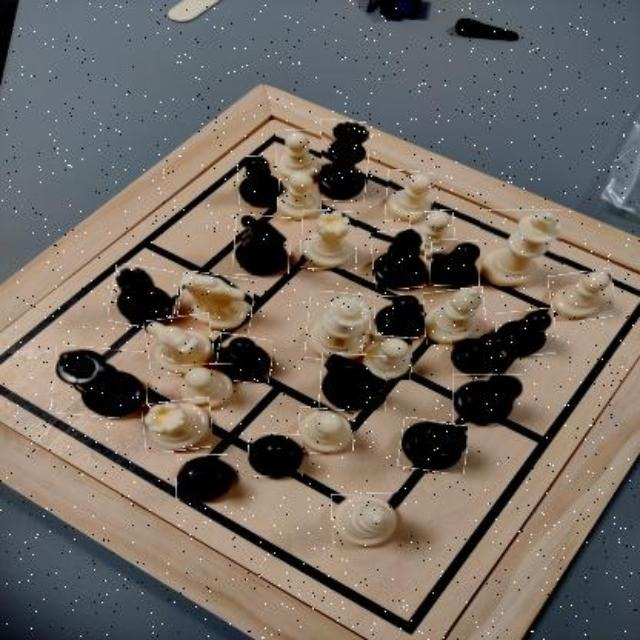black-bishop: (452, 374, 524, 424), (372, 229, 427, 290)
black-king: (53, 348, 148, 418)
black-knight: (319, 353, 386, 411), (235, 214, 291, 275)
black-pawn: (497, 309, 557, 356), (216, 334, 272, 383), (176, 454, 234, 501), (248, 432, 303, 478), (452, 334, 507, 376), (238, 157, 284, 207), (430, 241, 480, 287), (375, 294, 425, 340)
black-queen: (314, 121, 369, 202)
black-rook: (112, 265, 178, 328), (398, 420, 467, 472)
white-bishop: (332, 493, 398, 548), (423, 288, 486, 344)
white-king: (480, 209, 564, 287)
white-knight: (178, 273, 254, 333), (145, 314, 214, 375)
white-pawn: (550, 270, 614, 322), (298, 408, 354, 455), (385, 170, 434, 222), (361, 336, 413, 380), (182, 365, 234, 409), (277, 130, 323, 179), (278, 172, 322, 220), (412, 211, 456, 259)
white-queen: (306, 292, 370, 362)
white-rook: (143, 400, 212, 452), (301, 210, 356, 270)
